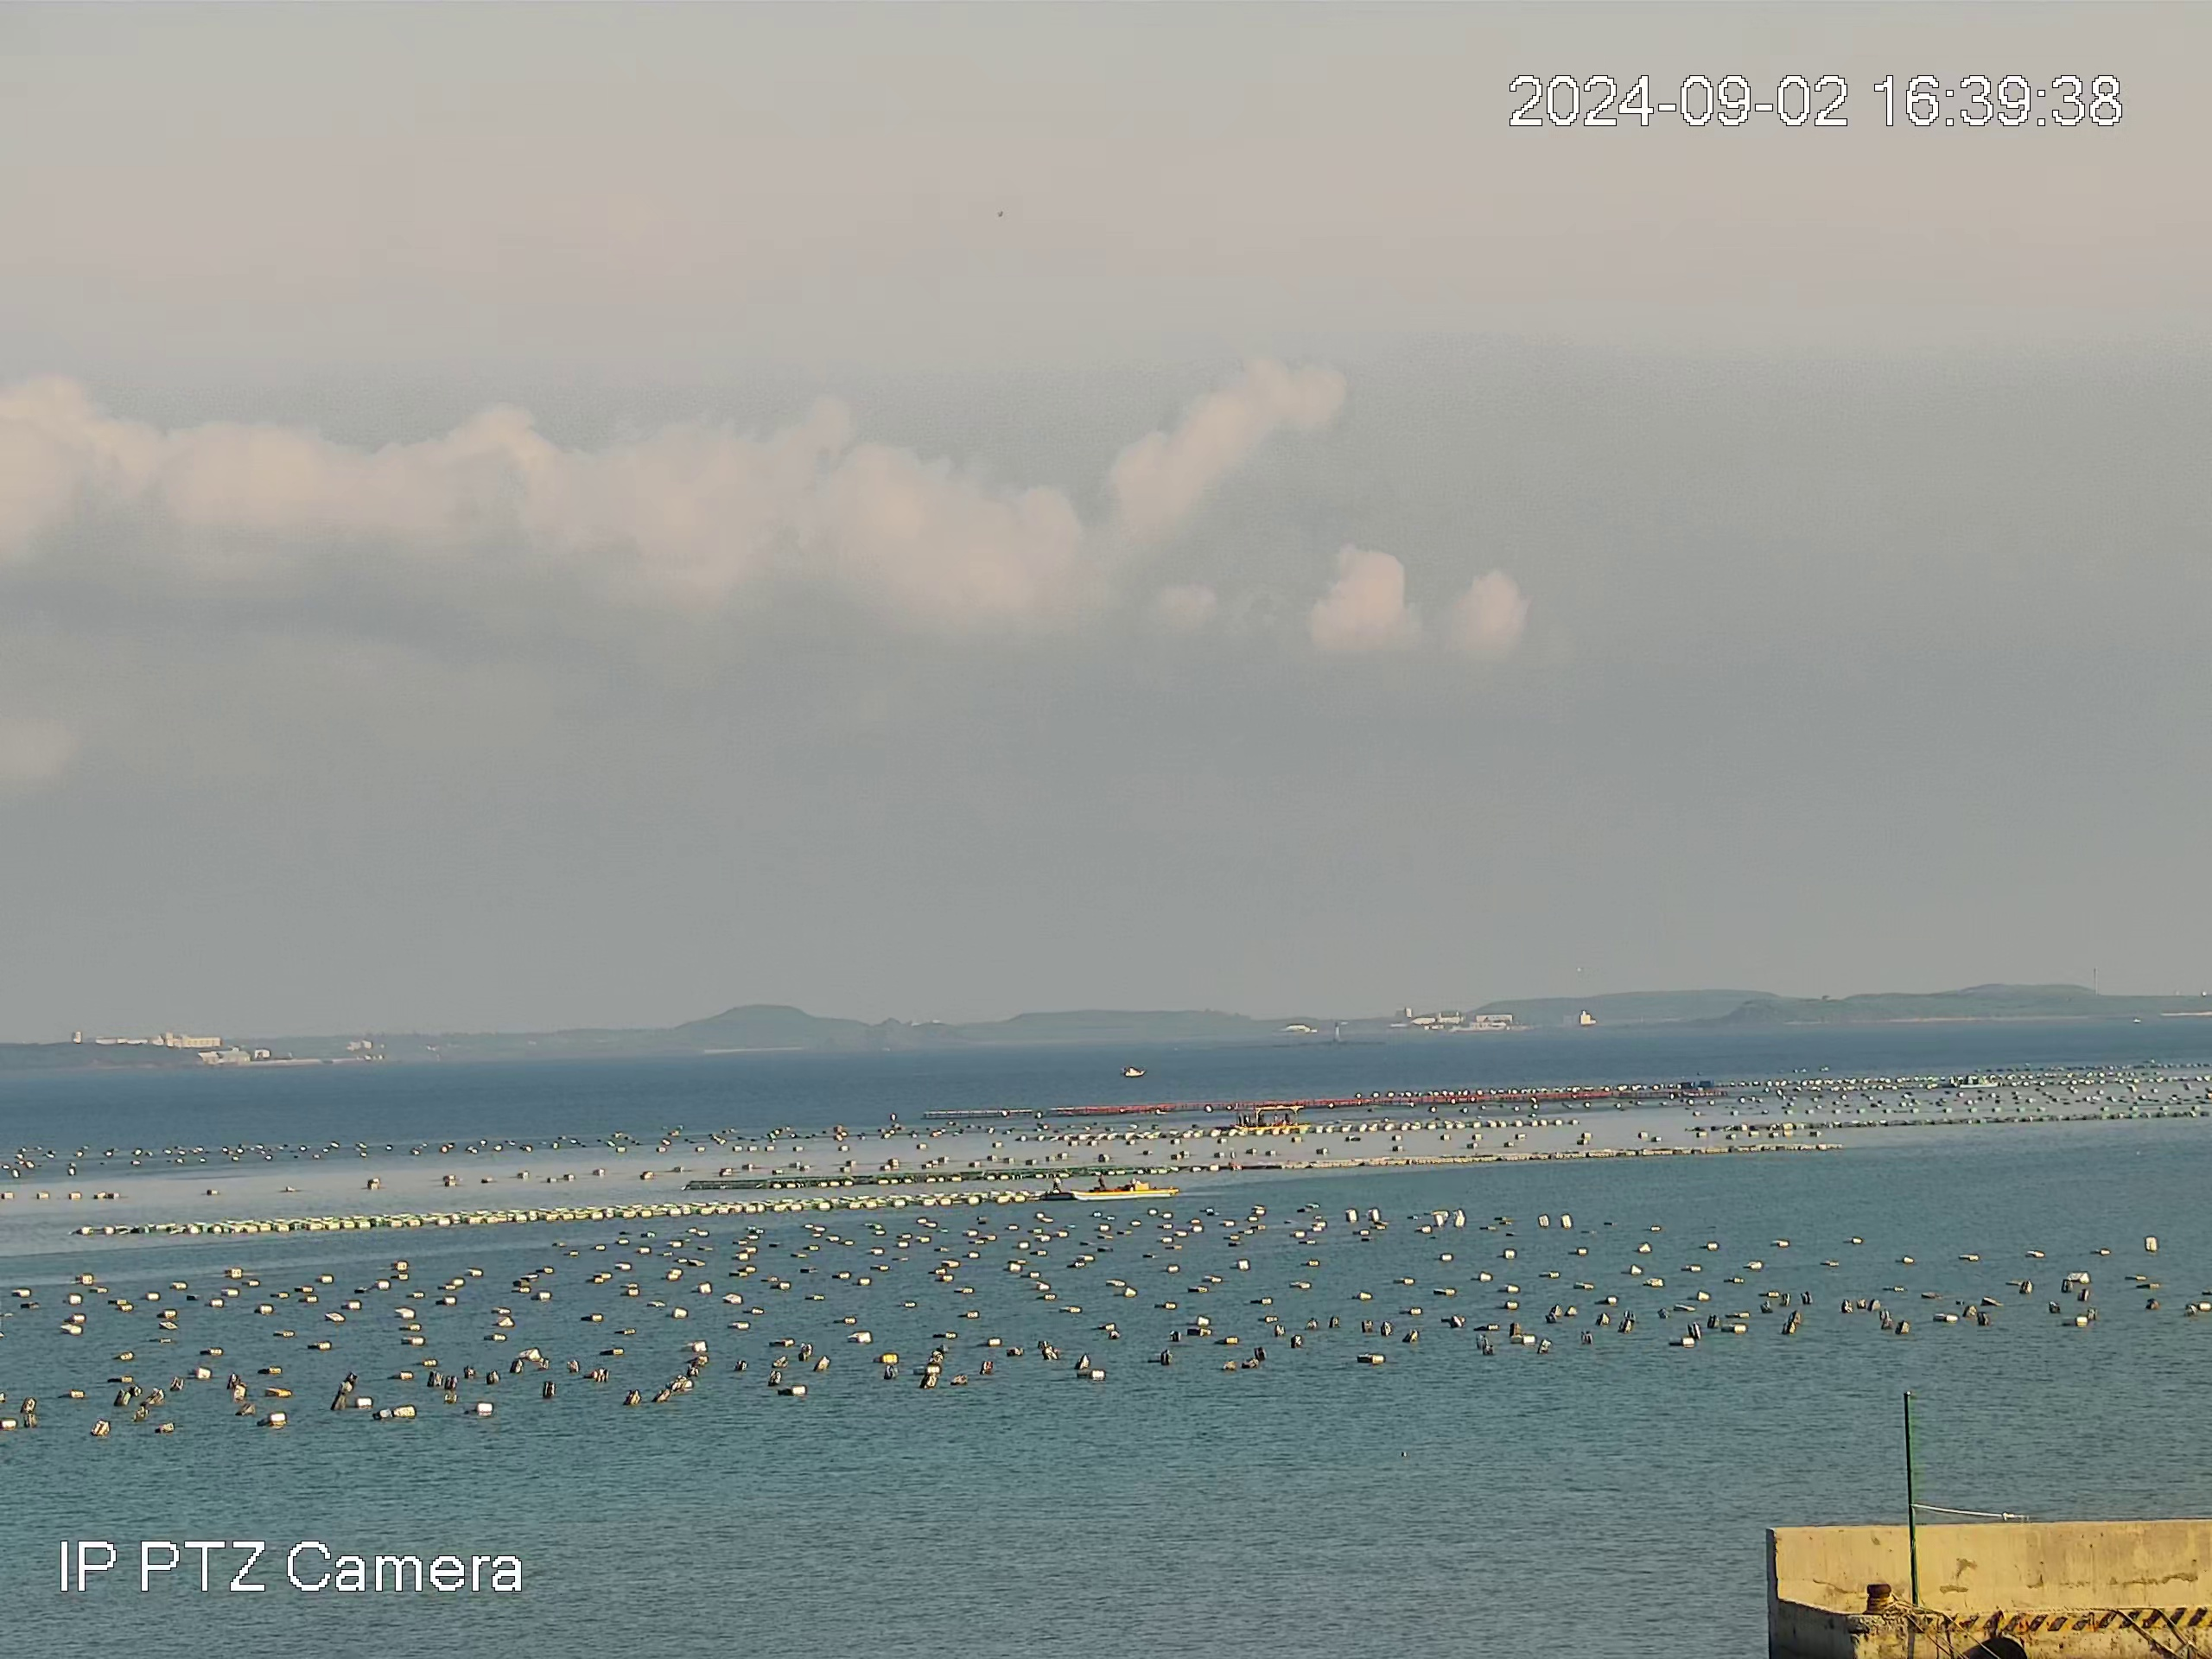boat: (1038, 1171, 1179, 1202), (1230, 1101, 1312, 1131), (1956, 1073, 2000, 1089), (1123, 1066, 1146, 1077)
